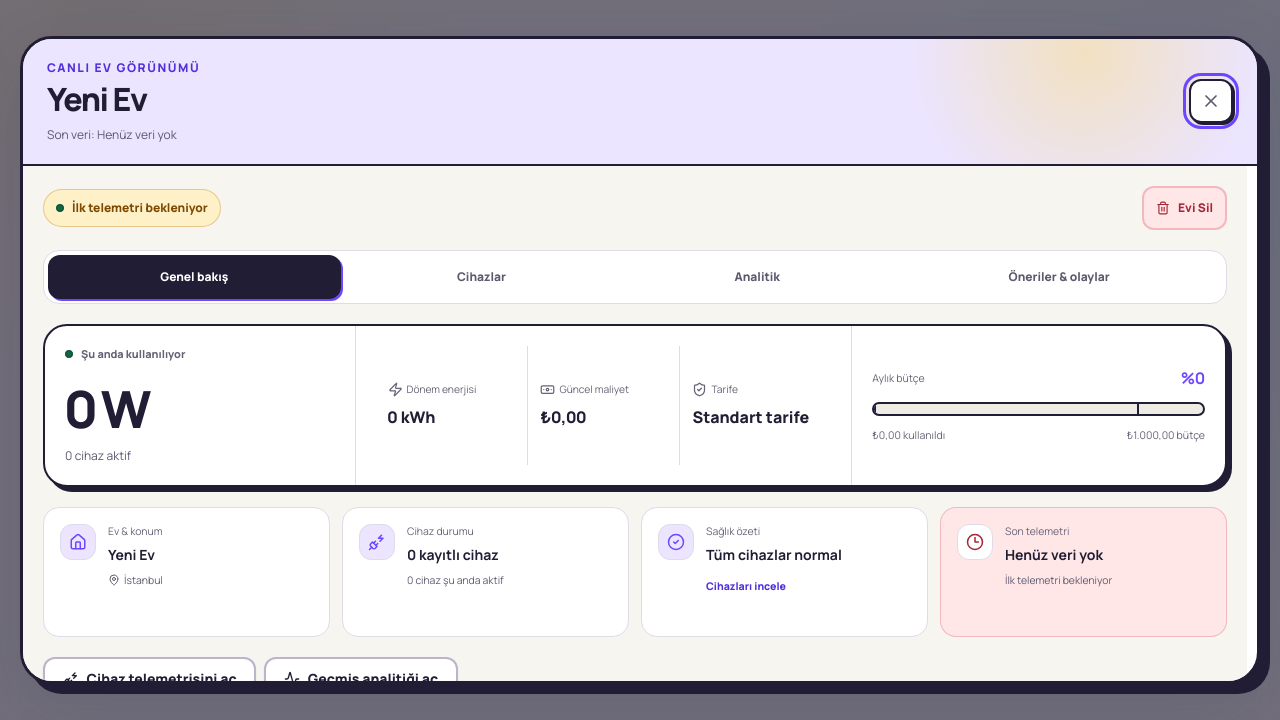
Test: existing-home appliance registration › displays the empty device state and opens the registration form
Click the tab "Cihazlar".
click(481, 277)  # box 345,255 -> 618,299
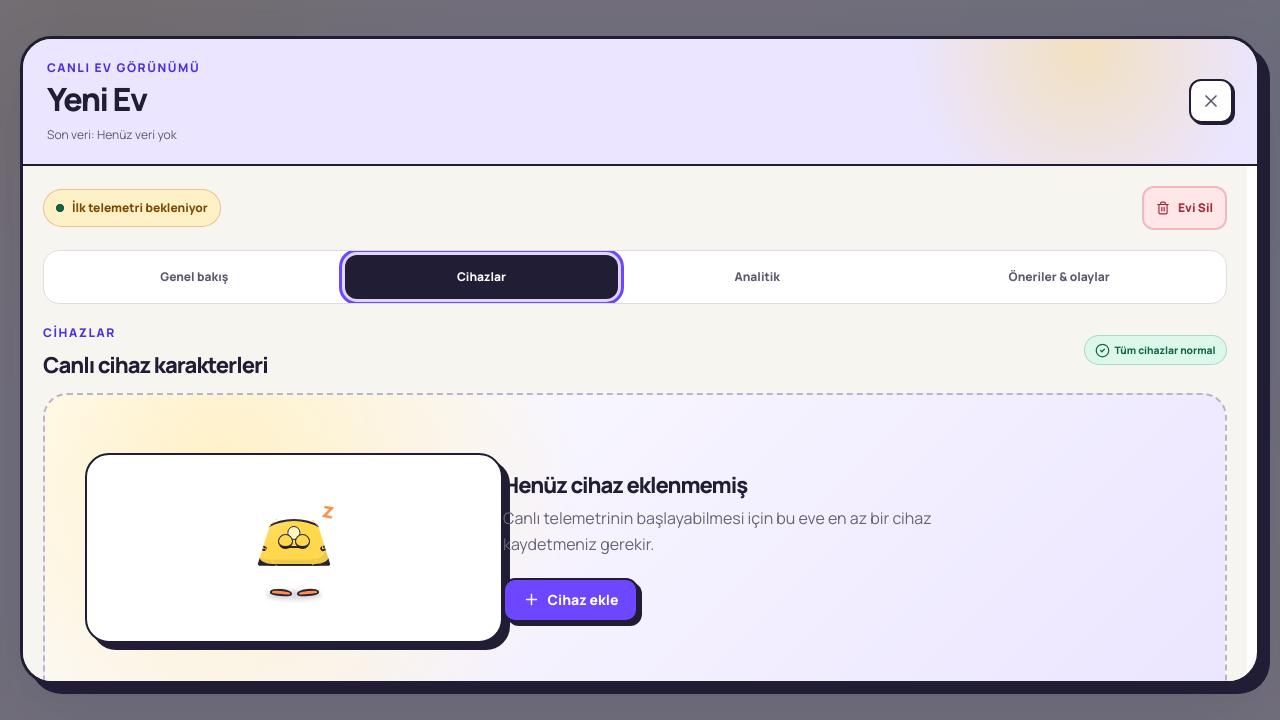
Expected: the heading "Henüz cihaz eklenmemiş" is shown, 503,470 -> 747,500
Expected: the text "cihaz kaydetmeniz gerekir" is shown, 503,507 -> 932,555
Click the button "Cihaz ekle".
click(570, 600)  # box 503,578 -> 638,622
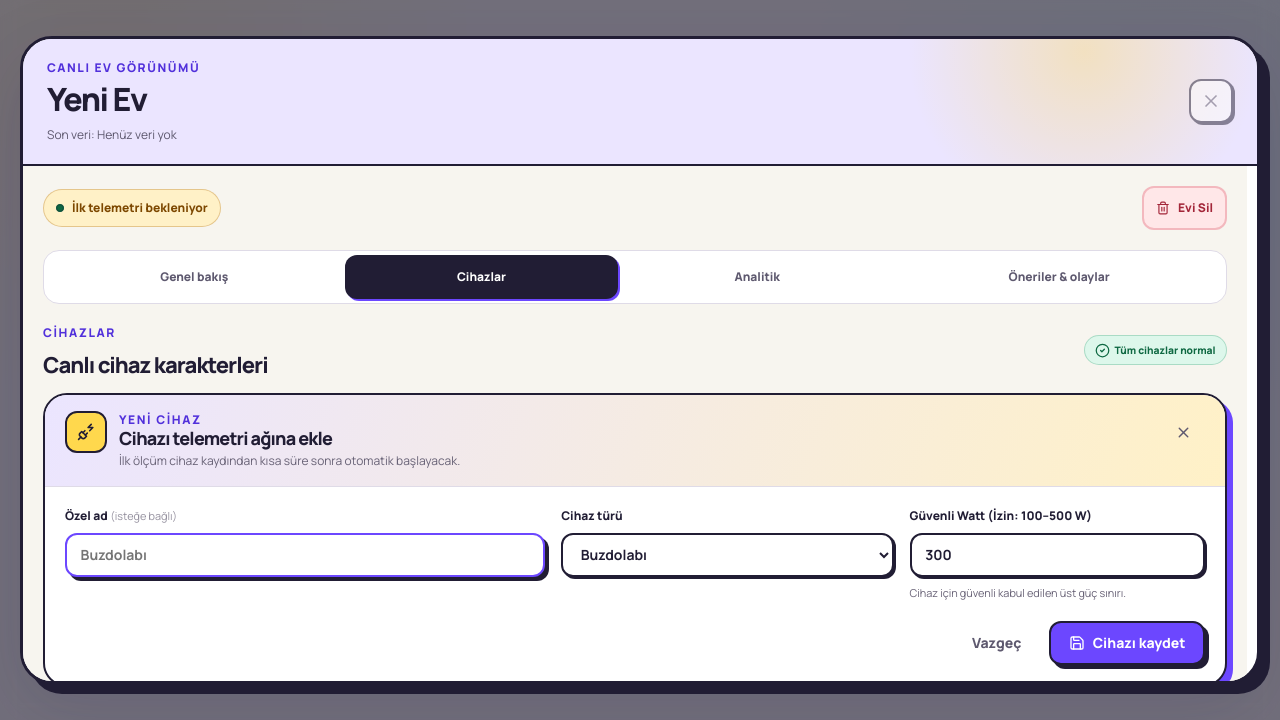
Expected: the element with test id "add-appliance-form" that starts with "Yeni cihaz" is shown, 43,393 -> 1227,681
